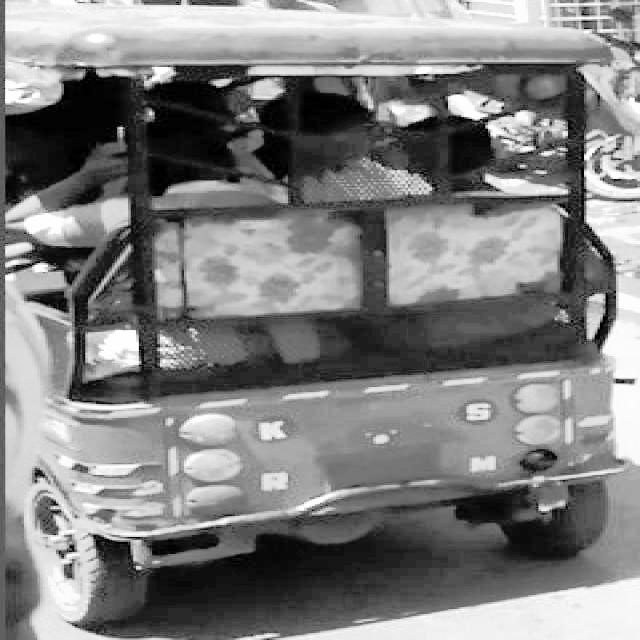Toto: (7, 7, 633, 623)
